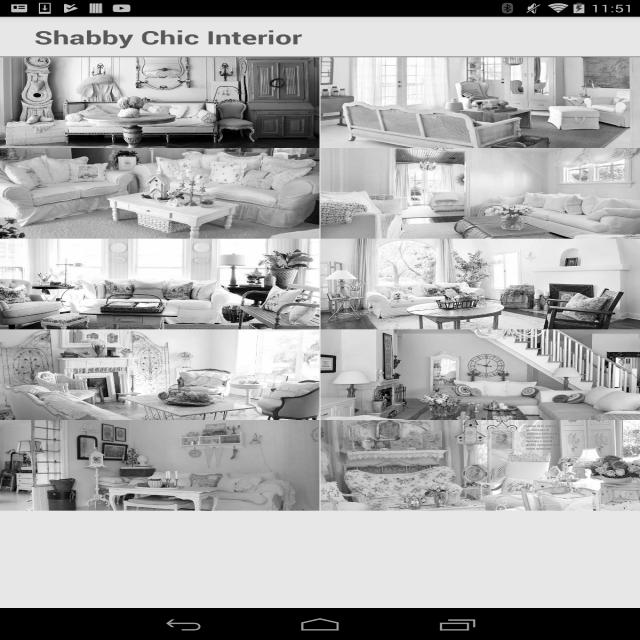ImageView: (14, 58, 625, 506)
TextView: (31, 28, 312, 48)
